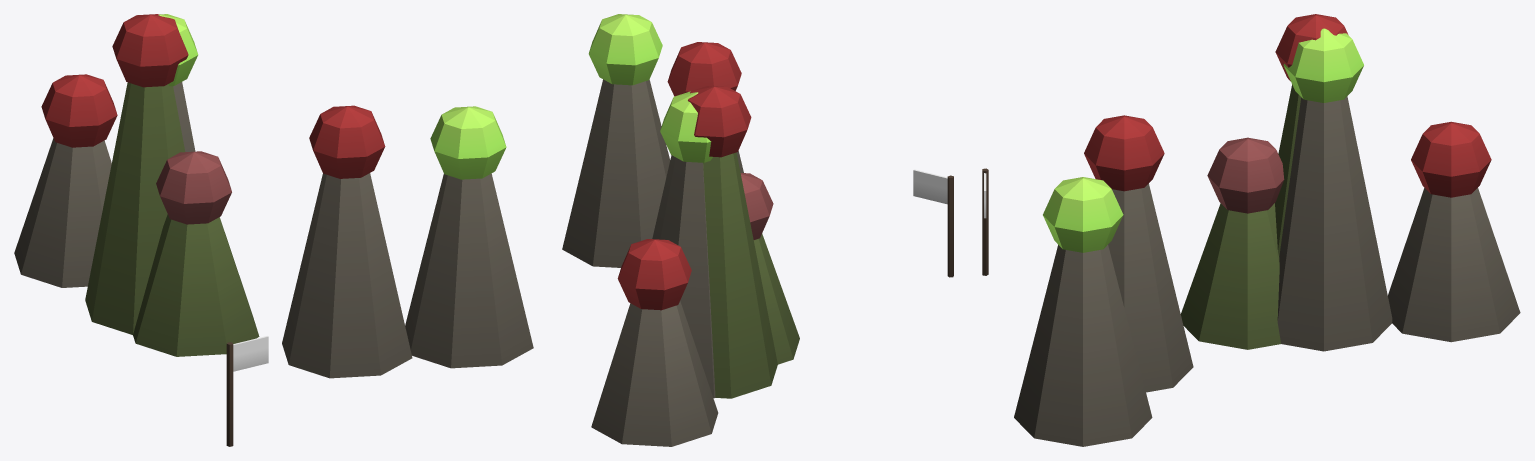
Rendered from ANIMAL.glb.
3 renders of one model, left to right at view 1: azimuth 30°, elevation 25°; view 2: azimuth 150°, elevation 25°; view 3: azimuth 270°, elevation 25°, orthographic. The views are drawn at different scales.
Parts seen in each view (by area): view 1: Body, Flag; view 2: Body, Flag; view 3: Body.
Part boxes in pixels (x1=…): Body: x1=14, y1=14, x2=533, y2=446; Flag: x1=233, y1=336, x2=268, y2=371; Body: x1=562, y1=14, x2=953, y2=446; Flag: x1=913, y1=169, x2=947, y2=204; Body: x1=982, y1=14, x2=1520, y2=446.
Bounding box in the file's own units: 3.56 × 2.87 × 4.66.
1 material, 1 textured.
